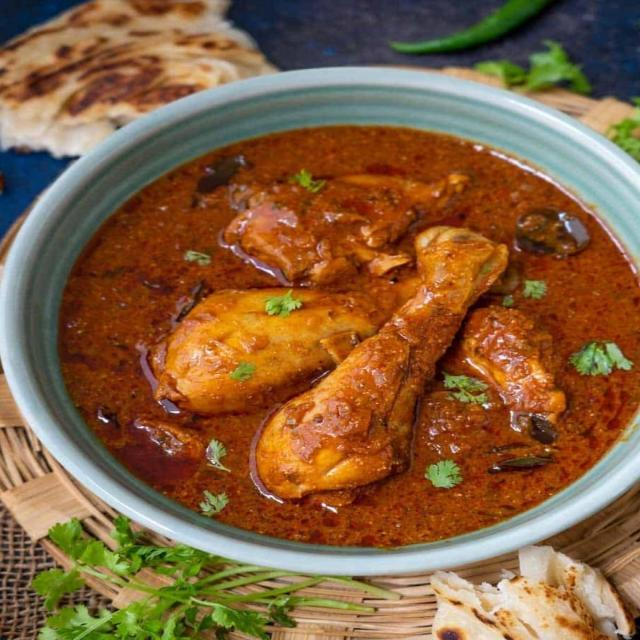chicken: (16, 113, 640, 540)
